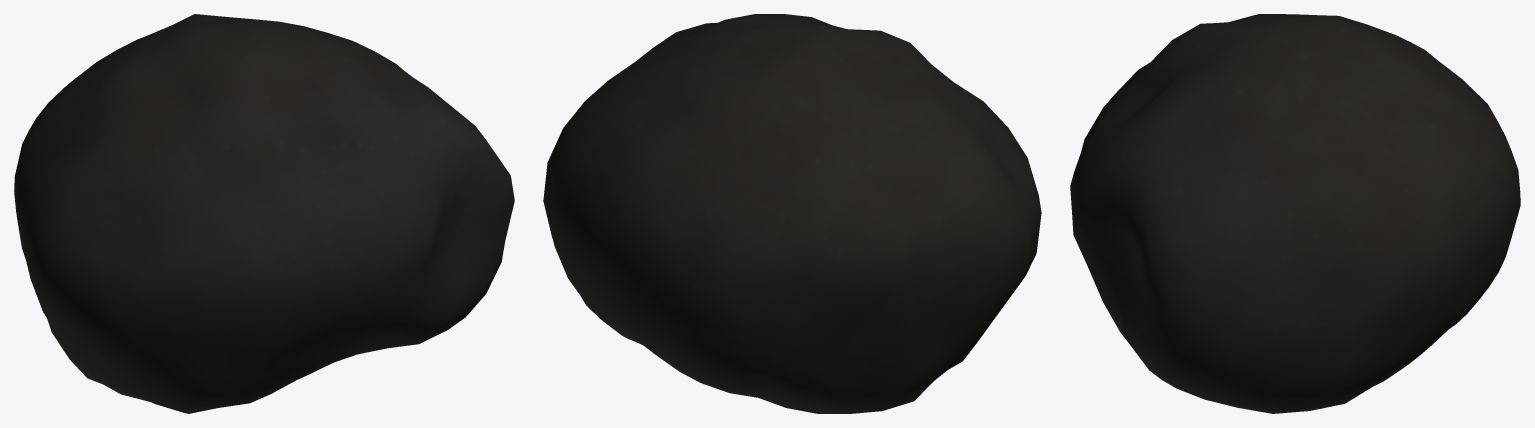
The model's file is phobos.glb.
3 renders of one model, left to right at view 1: azimuth 30°, elevation 25°; view 2: azimuth 150°, elevation 25°; view 3: azimuth 270°, elevation 25°, orthographic.
Parts seen in each view (by area): view 1: Phobos; view 2: Phobos; view 3: Phobos.
Boxes of the visible parts, <box> form: Phobos: <box>14,14,514,413</box>; Phobos: <box>543,14,1041,413</box>; Phobos: <box>1070,14,1520,413</box>.
Bounding box in the file's own units: 2.3 × 1.71 × 2.07.
1 material, 1 textured.
